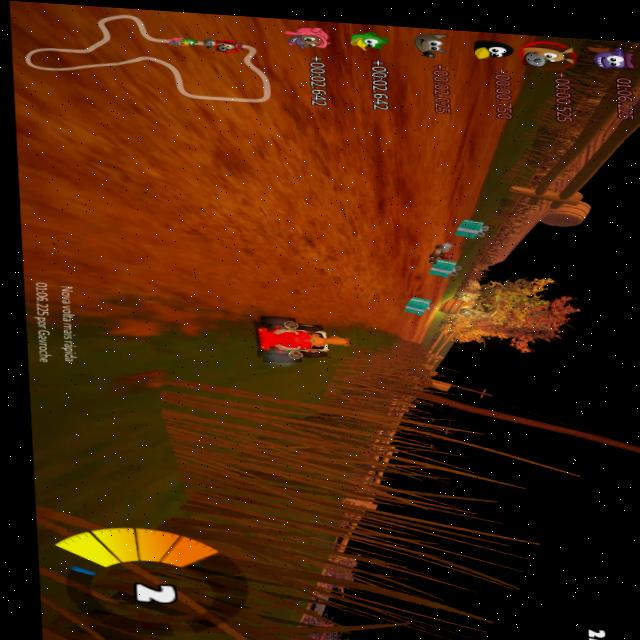bonus: (449, 217, 494, 241), (397, 295, 436, 318)
player_kart: (249, 314, 354, 373)
track: (6, 0, 488, 207), (17, 177, 249, 345), (17, 176, 435, 220), (246, 210, 421, 280), (246, 269, 375, 321), (371, 276, 442, 296), (437, 204, 485, 223), (400, 320, 433, 345), (376, 297, 394, 326), (424, 222, 445, 243)
